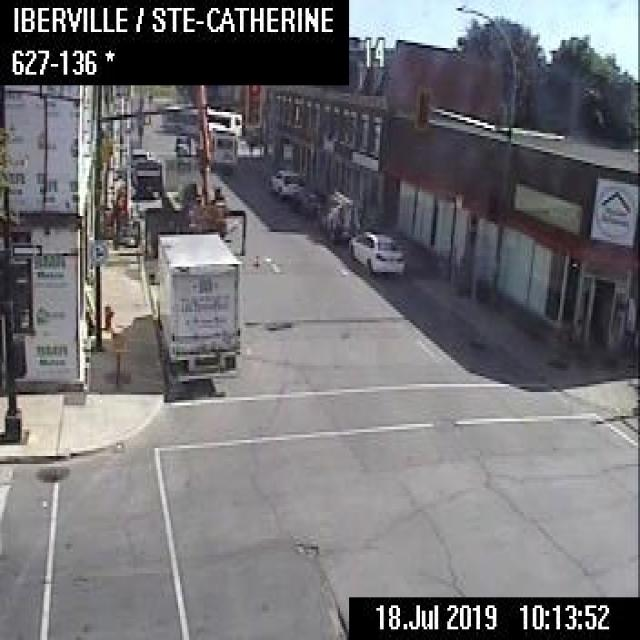bus: (208, 128, 236, 168)
construction: (171, 83, 231, 231), (108, 319, 131, 392)
vehicle: (153, 229, 241, 384), (348, 227, 403, 277), (316, 186, 358, 243), (128, 154, 163, 200), (290, 180, 323, 218), (267, 165, 301, 198)
